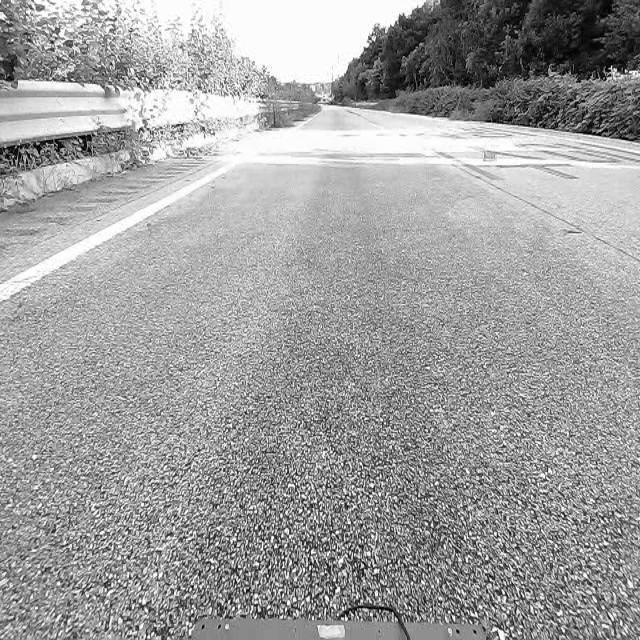Lane: (2, 151, 238, 305), (0, 162, 240, 303)
